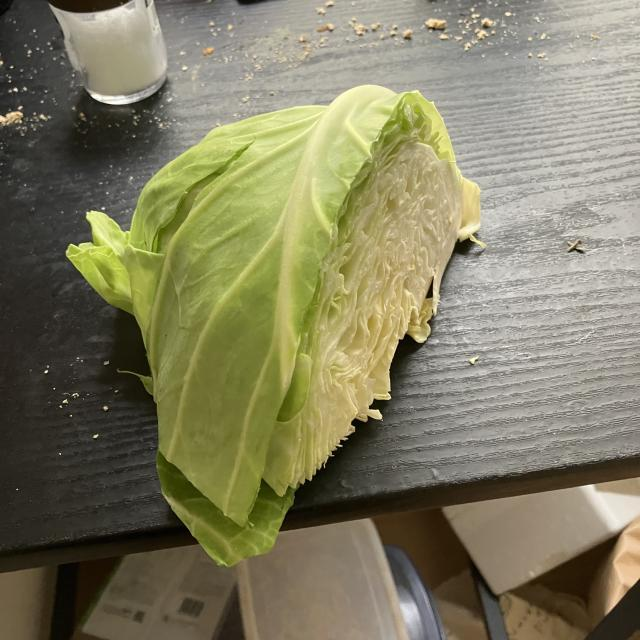haft-cabbage: (66, 84, 484, 568)
